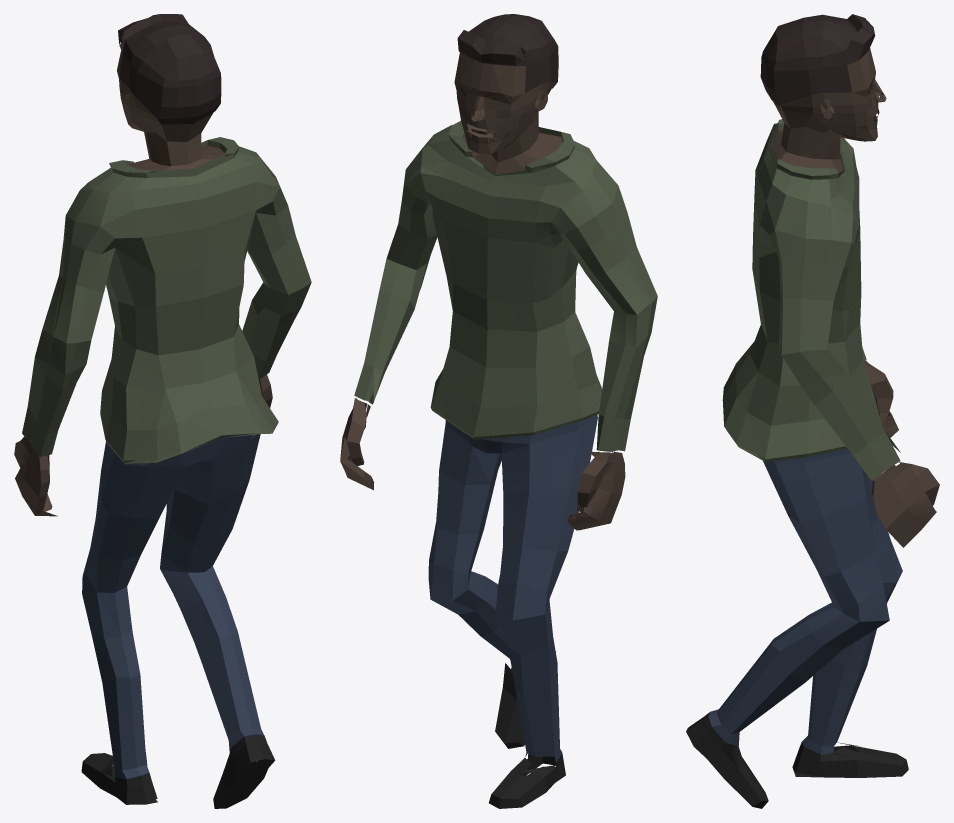
File: person_1_w2.fbx
3 views of the same model, side by side, from view 1: azimuth 30°, elevation 25°; view 2: azimuth 150°, elevation 25°; view 3: azimuth 270°, elevation 25° (orthographic). The views are drawn at different scales.
Visible parts, largest first — view 1: BaseHuman; view 2: BaseHuman; view 3: BaseHuman.
Part boxes in pixels (x1,y1,x2,y2): BaseHuman: (14, 14, 311, 808); BaseHuman: (340, 14, 657, 808); BaseHuman: (686, 14, 939, 808).
Size of the model in its own units: 0.362 by 1 by 0.2973.
